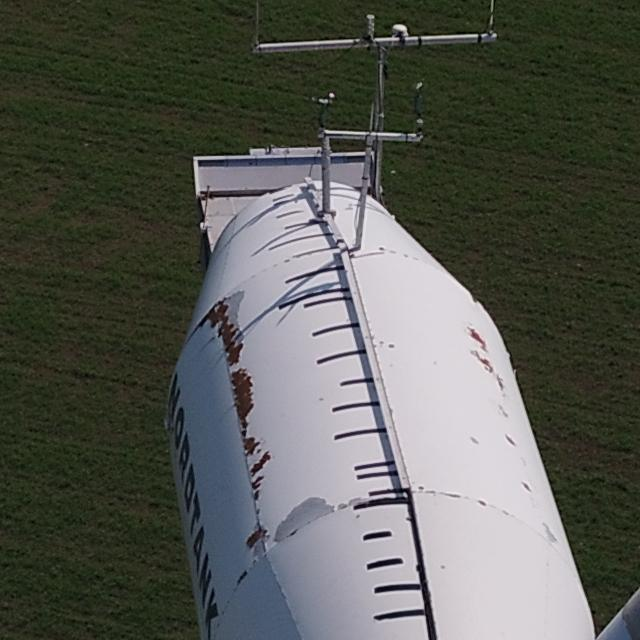damage: (199, 289, 247, 366), (271, 496, 336, 546), (227, 366, 255, 437), (467, 326, 492, 353), (249, 450, 273, 478), (244, 526, 268, 551), (470, 349, 494, 374), (539, 521, 559, 544), (243, 434, 261, 458), (439, 488, 465, 500), (345, 494, 371, 505), (233, 570, 251, 584), (249, 476, 264, 492), (502, 431, 517, 447), (336, 498, 349, 513), (495, 373, 504, 394), (520, 481, 533, 492), (476, 498, 488, 508), (253, 489, 261, 502), (467, 435, 480, 443), (388, 341, 396, 350)
